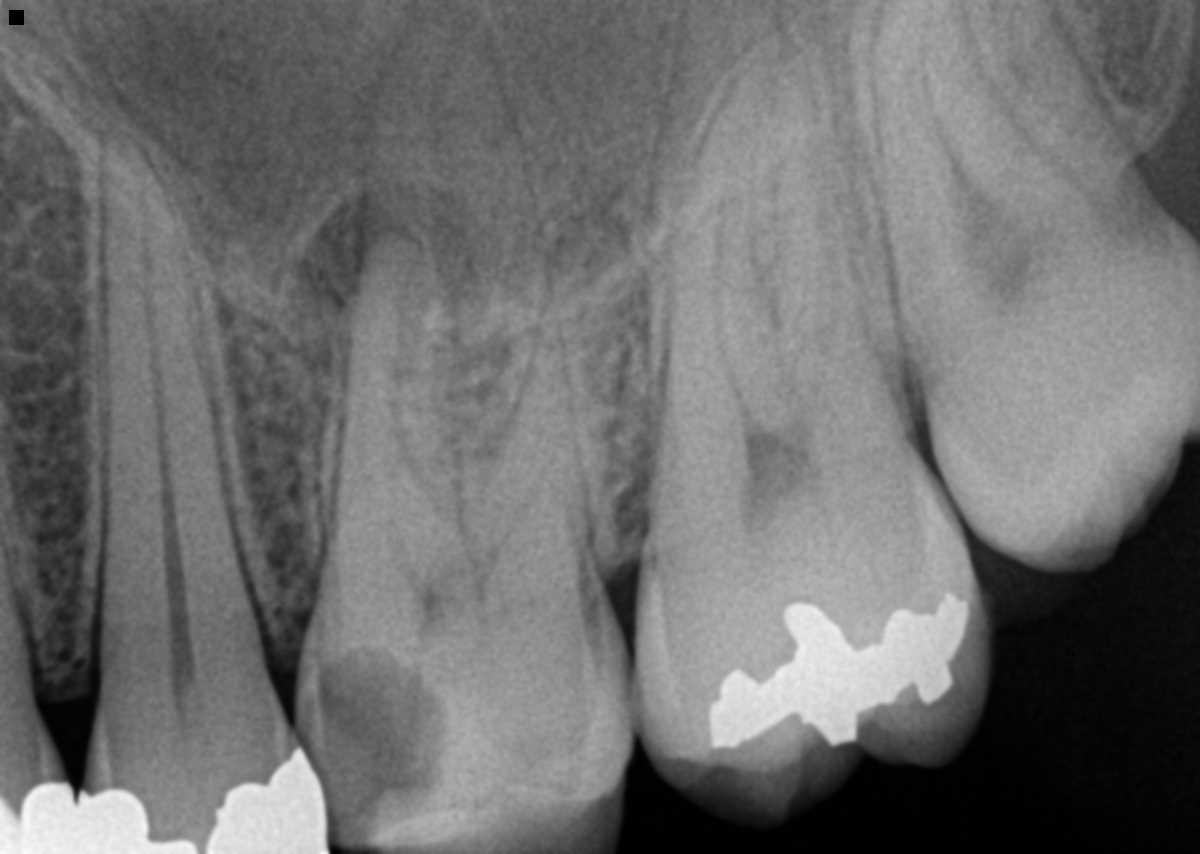Apical Lesion: (282, 169, 502, 367)
Distal Canal: (511, 445, 557, 523)
Distal Root: (467, 221, 634, 545), (774, 124, 902, 418)
Main Canal: (137, 173, 202, 692)
Main Root: (95, 126, 281, 701), (0, 497, 35, 696)
Mesial Canal: (716, 135, 748, 403)
Mesial Root: (656, 47, 790, 448), (327, 226, 475, 559)
Palatal Root: (329, 4, 590, 552), (644, 0, 876, 441)
decay: (310, 647, 454, 833)
